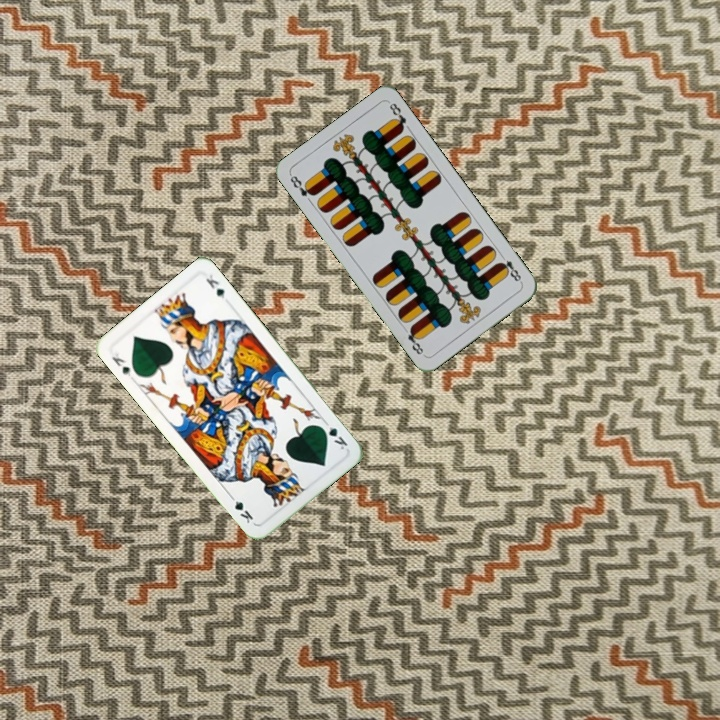E8: (495, 250, 525, 286), (286, 171, 318, 199)
GK: (316, 421, 350, 453), (108, 349, 133, 379)
